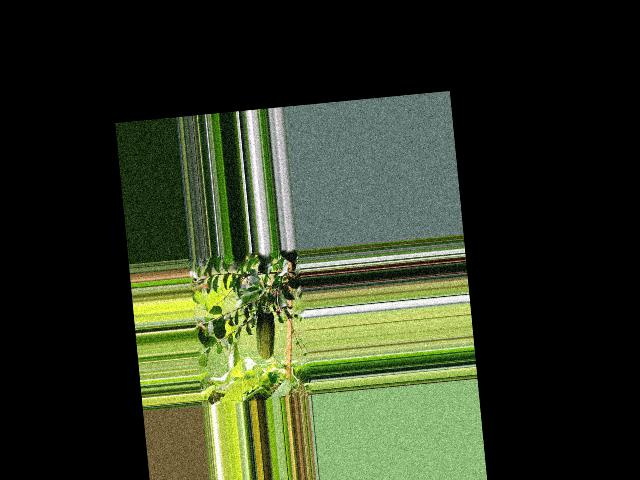cucumber: (253, 305, 278, 360)
